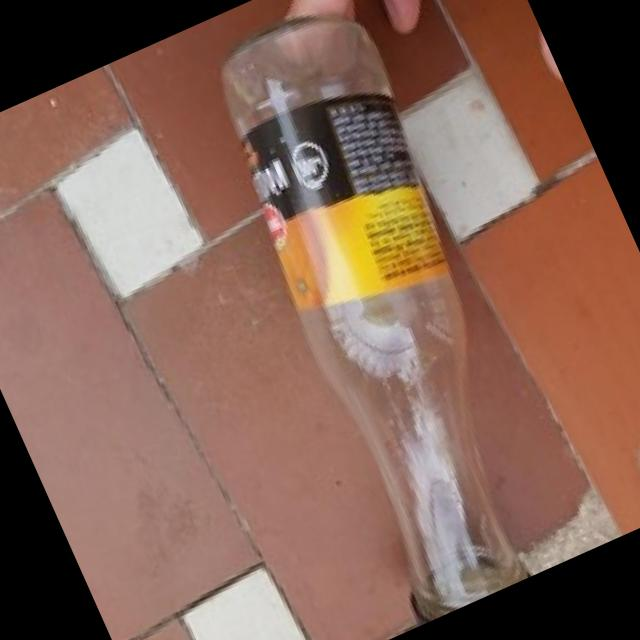BotolKaca: (173, 0, 601, 626)
